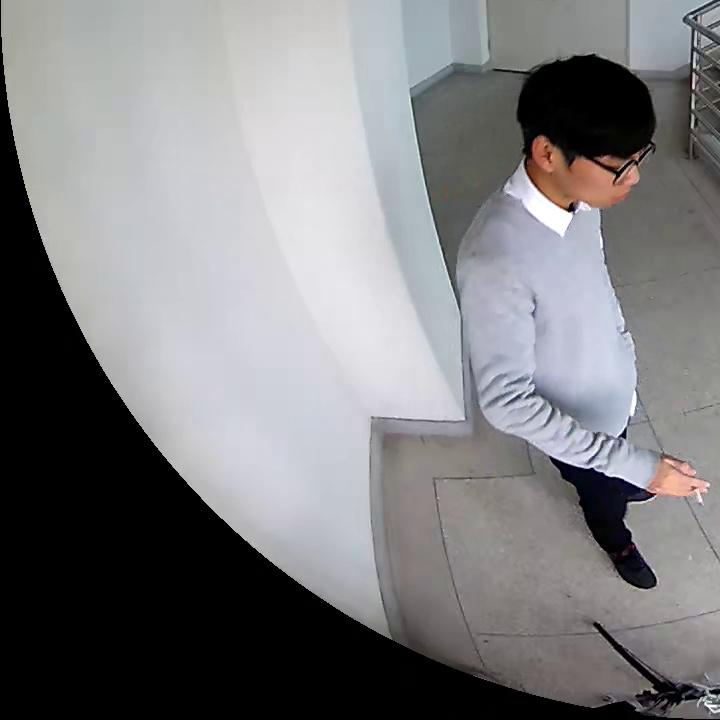handsmoke: (651, 454, 709, 502)
mouthwithoutsmoke: (514, 58, 657, 207)
